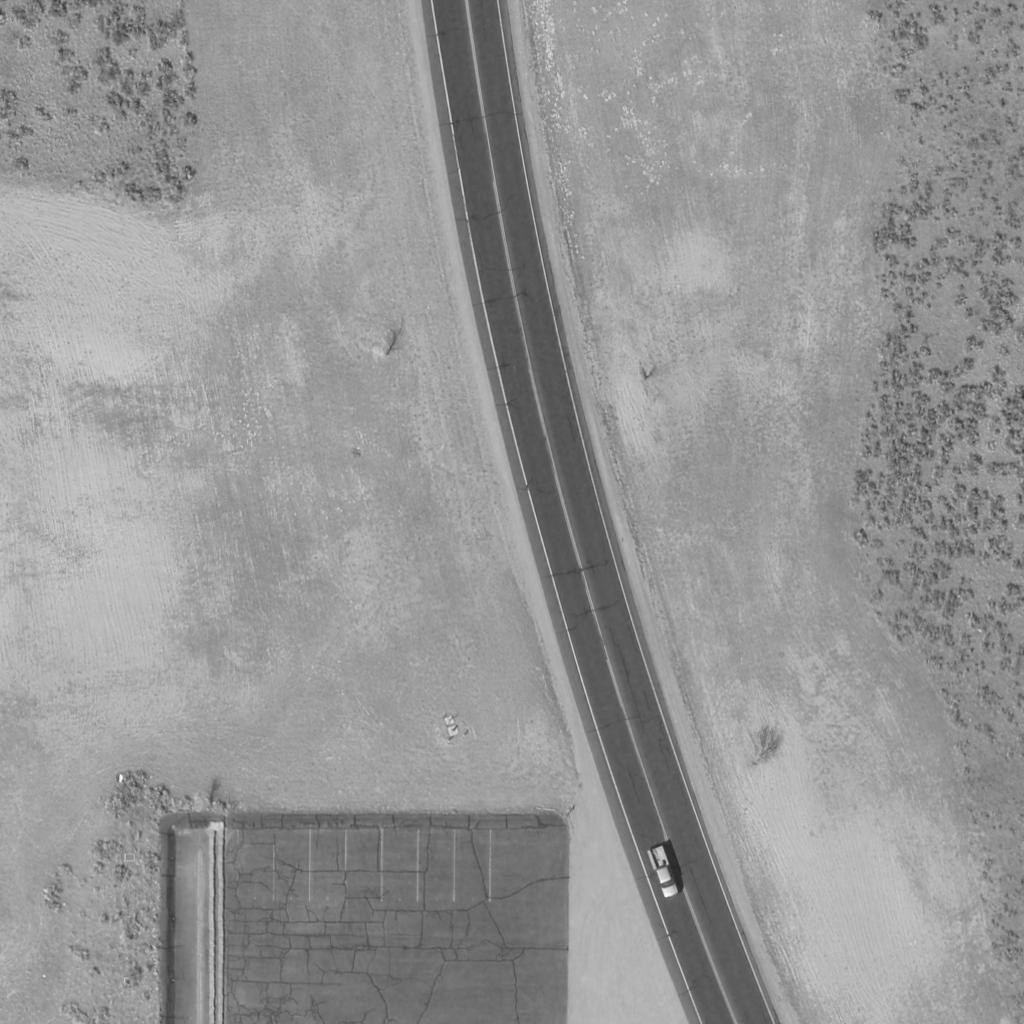vehicle: (647, 847, 681, 897)
